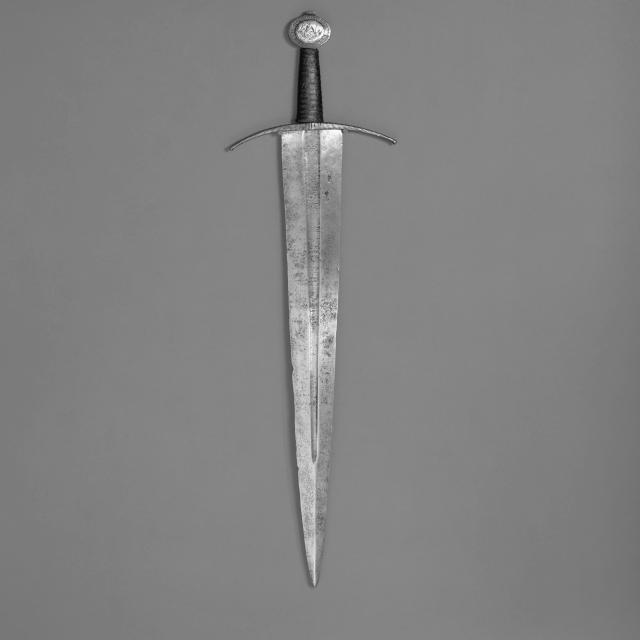Weapon: (229, 11, 396, 587)
